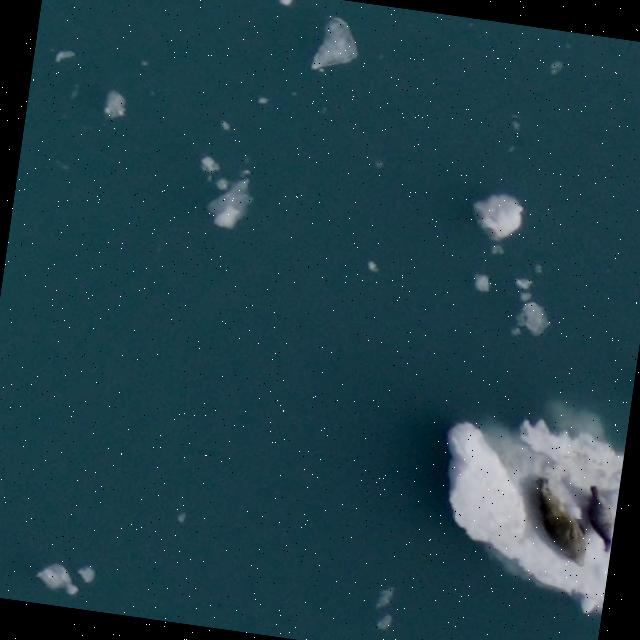seal: (514, 470, 602, 573), (577, 486, 624, 552)
